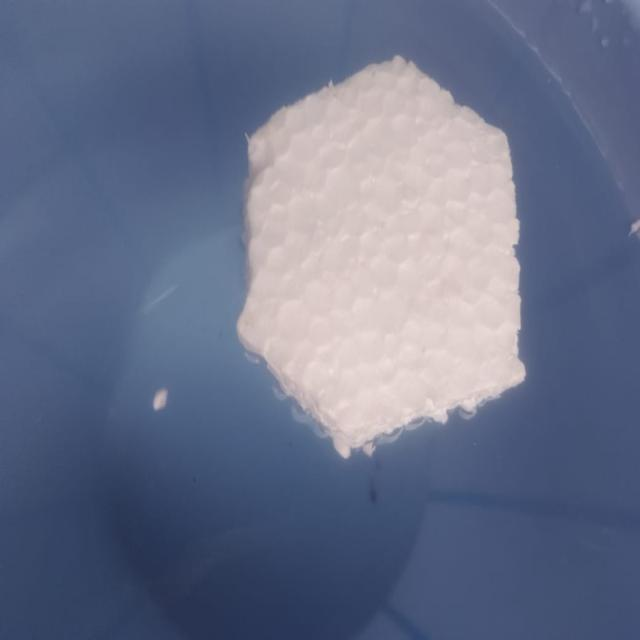thermocoal: (225, 46, 535, 454)
